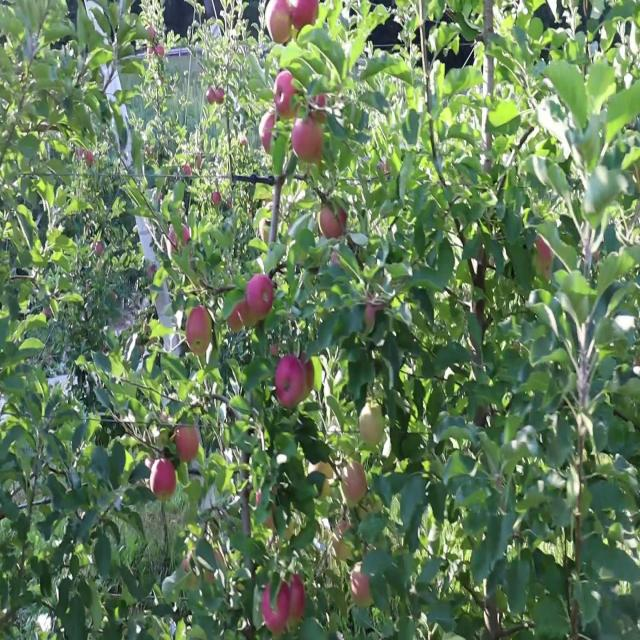apple: (264, 575, 308, 635), (292, 113, 324, 165), (276, 355, 304, 411), (280, 575, 308, 631), (264, 583, 291, 636), (188, 305, 213, 356), (248, 277, 276, 320), (276, 71, 299, 121), (344, 462, 368, 507), (360, 405, 385, 448), (152, 462, 177, 503), (320, 206, 348, 242), (256, 483, 276, 533), (268, 7, 292, 48), (232, 298, 259, 334), (176, 426, 200, 464), (312, 462, 336, 498), (332, 519, 352, 562), (352, 568, 372, 610), (292, 0, 320, 30), (260, 113, 278, 156), (228, 305, 251, 334), (240, 298, 259, 327), (300, 362, 316, 396), (536, 234, 553, 265), (312, 92, 329, 123), (228, 305, 245, 334), (208, 92, 216, 107), (216, 92, 224, 107)
